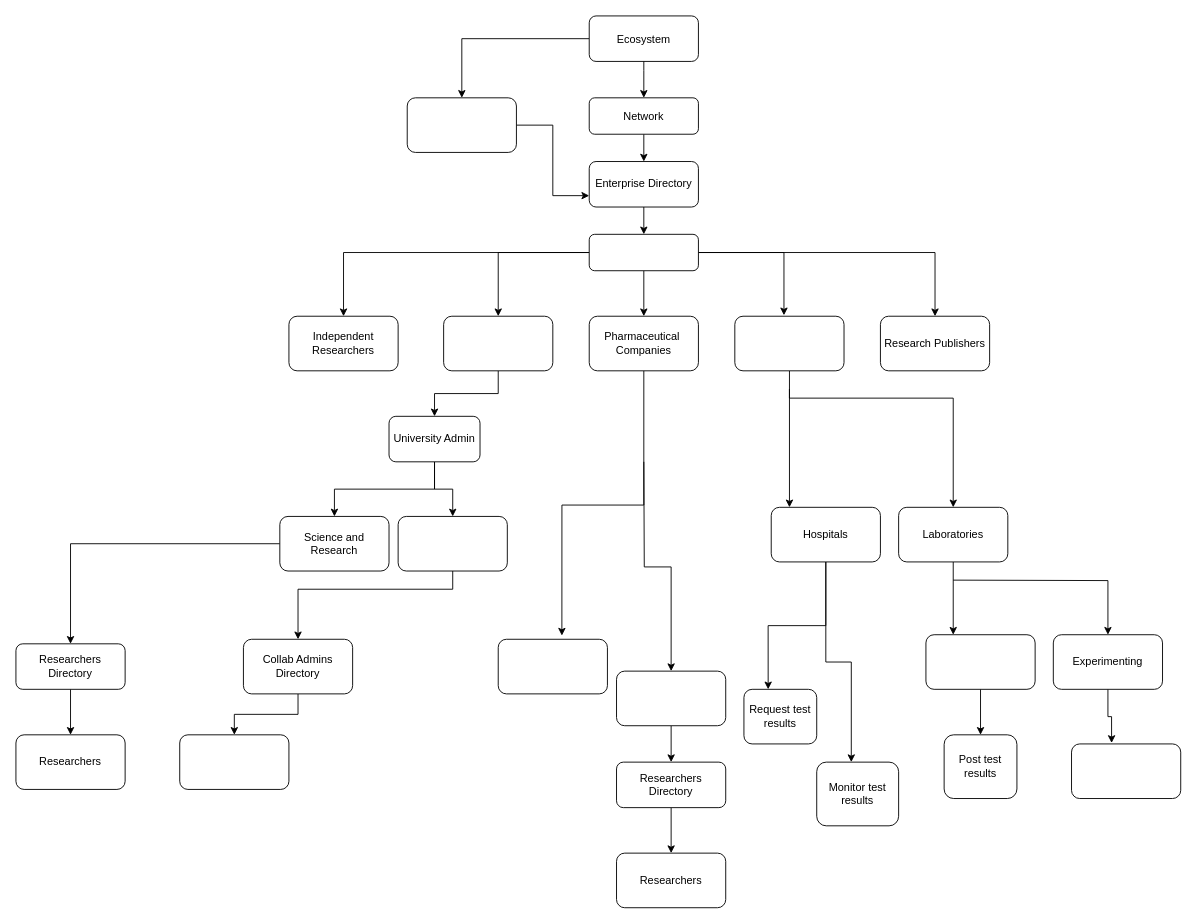
This 1197x924 diagram has some shape labels left out. The centre of each missing label's shape, as x and y in pixels:
Collab Admins: pixel 234 761
Collab Handling: pixel 452 543
Enterprise: pixel 643 252
Health Care: pixel 789 343
Manufacturing: pixel 552 666
Performing new experiments: pixel 1126 771
Research: pixel 671 698
System Admin: pixel 461 124
Testing: pixel 980 661
Universities: pixel 498 343
